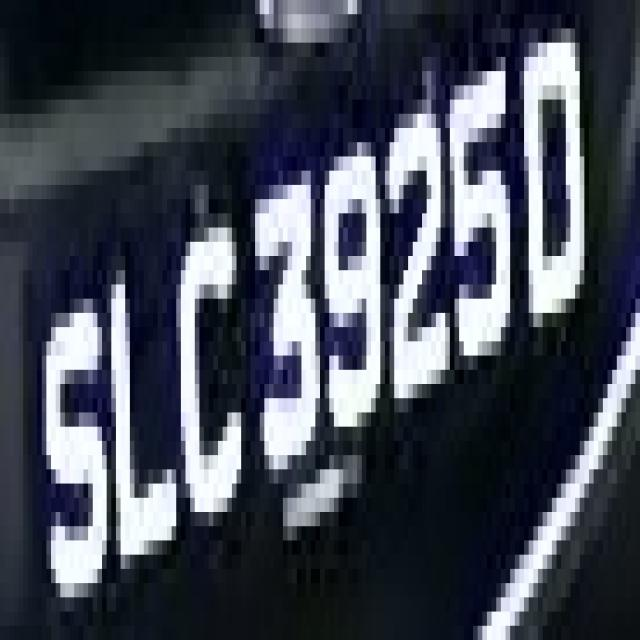2: (371, 85, 450, 441)
3: (250, 142, 324, 470)
5: (440, 14, 514, 398)
9: (311, 128, 380, 469)
C: (176, 171, 246, 526)
D: (515, 14, 589, 342)
L: (88, 242, 186, 597)
S: (32, 270, 116, 626)
